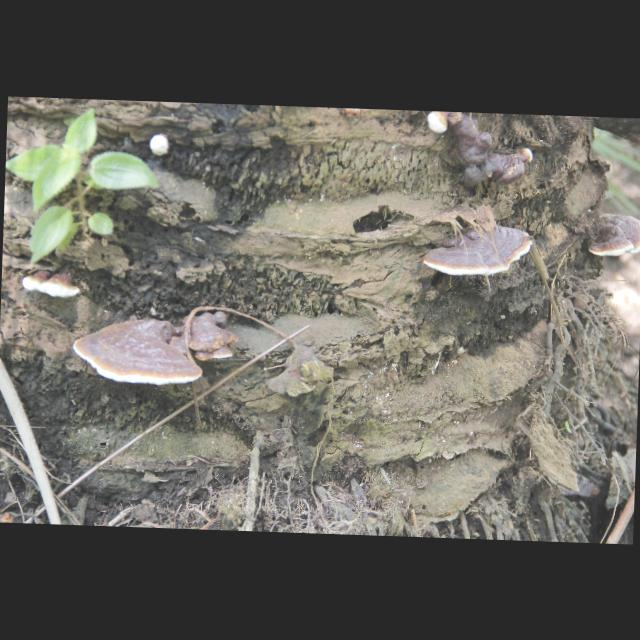ganoderma: (73, 317, 206, 389), (447, 112, 528, 195), (423, 220, 534, 279), (181, 310, 241, 364), (587, 212, 640, 258), (23, 270, 82, 300)
primordium: (427, 112, 450, 135), (149, 134, 171, 158), (520, 149, 534, 164)
